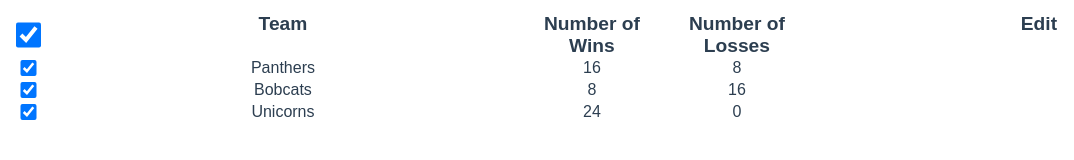
Test case: EasyTable.vue › Clicking header checkbox when all rows are selected deselects all rows
Click the 1st checkbox. click: (28,35)
box: [16,16,41,54]
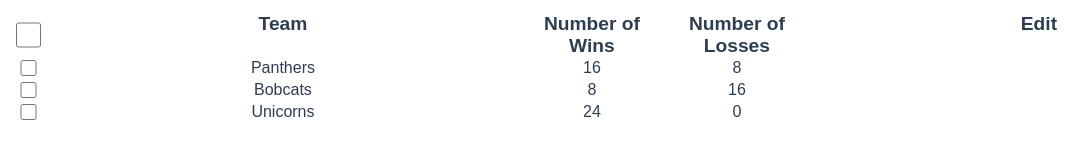
Expected: the 1st checkbox is not checked, [16,16,41,54]
Expected: the checkbox in the row of "Panthers" is not checked, [16,60,41,76]
Expected: the checkbox in the row of "Bobcats" is not checked, [16,82,41,98]
